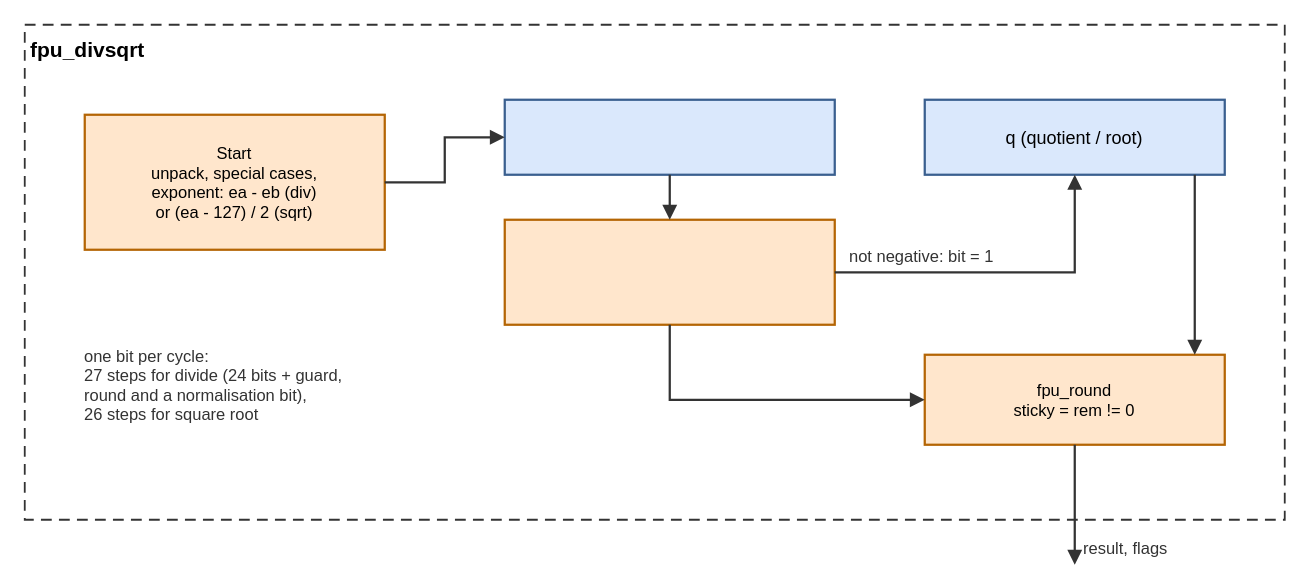
Some shapes in this 1310 by 587 pixel diagram are drawn without their labels. The centre of each missing label's shape, as x and y in pixels:
partial remainder rem: point (669, 136)
Trial subtract div: rem - divisor sqrt: rem:2 bits - (4q + 1): point (669, 271)
